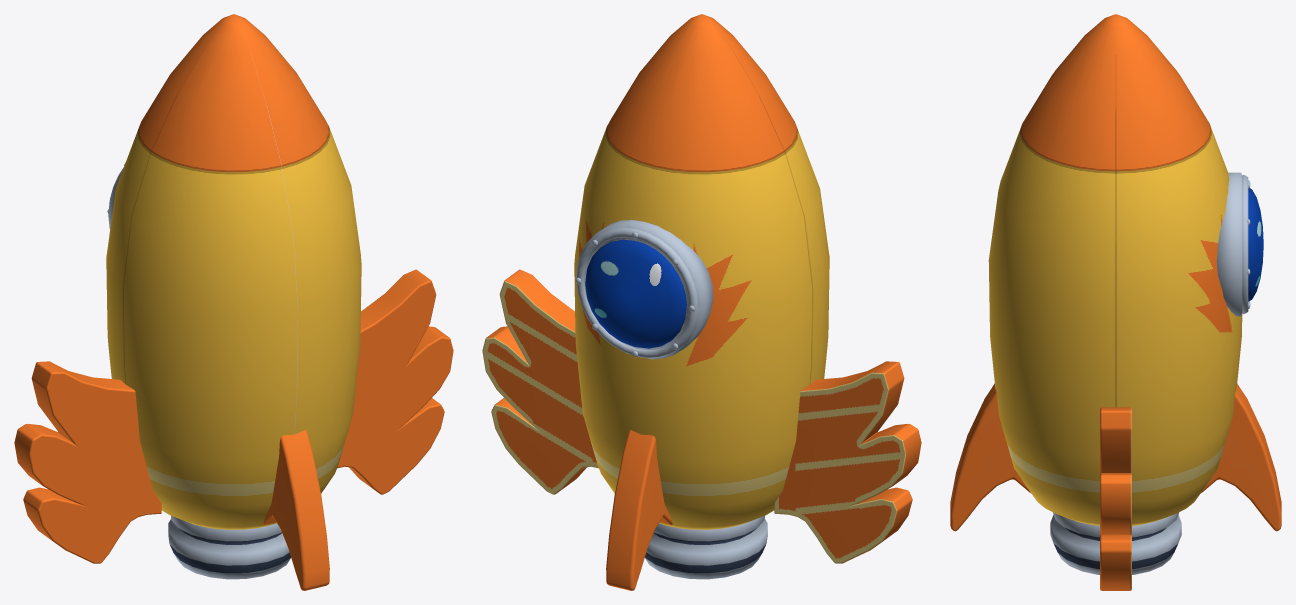
Rendered from rocket_legendario.fbx.
The picture shows the model from 3 angles, left to right: view 1: azimuth 30°, elevation 25°; view 2: azimuth 150°, elevation 25°; view 3: azimuth 270°, elevation 25°; orthographic projection.
Parts seen in each view (by area): view 1: Body, WingLeft, WingRight, Fins, Nozzle; view 2: Body, WingLeft, WingRight, Window, Fins, Nozzle; view 3: Body, Fins, WingRight, Nozzle, Window.
Part boxes in pixels (box(x1,y1,x2,y2)): Body: box(106, 14, 361, 529); WingLeft: box(14, 361, 161, 563); WingRight: box(337, 269, 453, 494); Fins: box(263, 430, 329, 590); Nozzle: box(168, 516, 290, 579); Body: box(574, 14, 829, 529); WingLeft: box(774, 361, 921, 563); WingRight: box(482, 269, 598, 494); Window: box(585, 239, 686, 348); Fins: box(606, 430, 672, 590); Nozzle: box(645, 516, 767, 579); Body: box(988, 14, 1250, 525); Fins: box(950, 383, 1281, 531); WingRight: box(1100, 407, 1131, 590); Nozzle: box(1050, 512, 1181, 574); Window: box(1248, 188, 1263, 301).
Size of the model in its own units: 2.3 by 2.8 by 1.56.
Materials: 3 (3 with a texture image).
